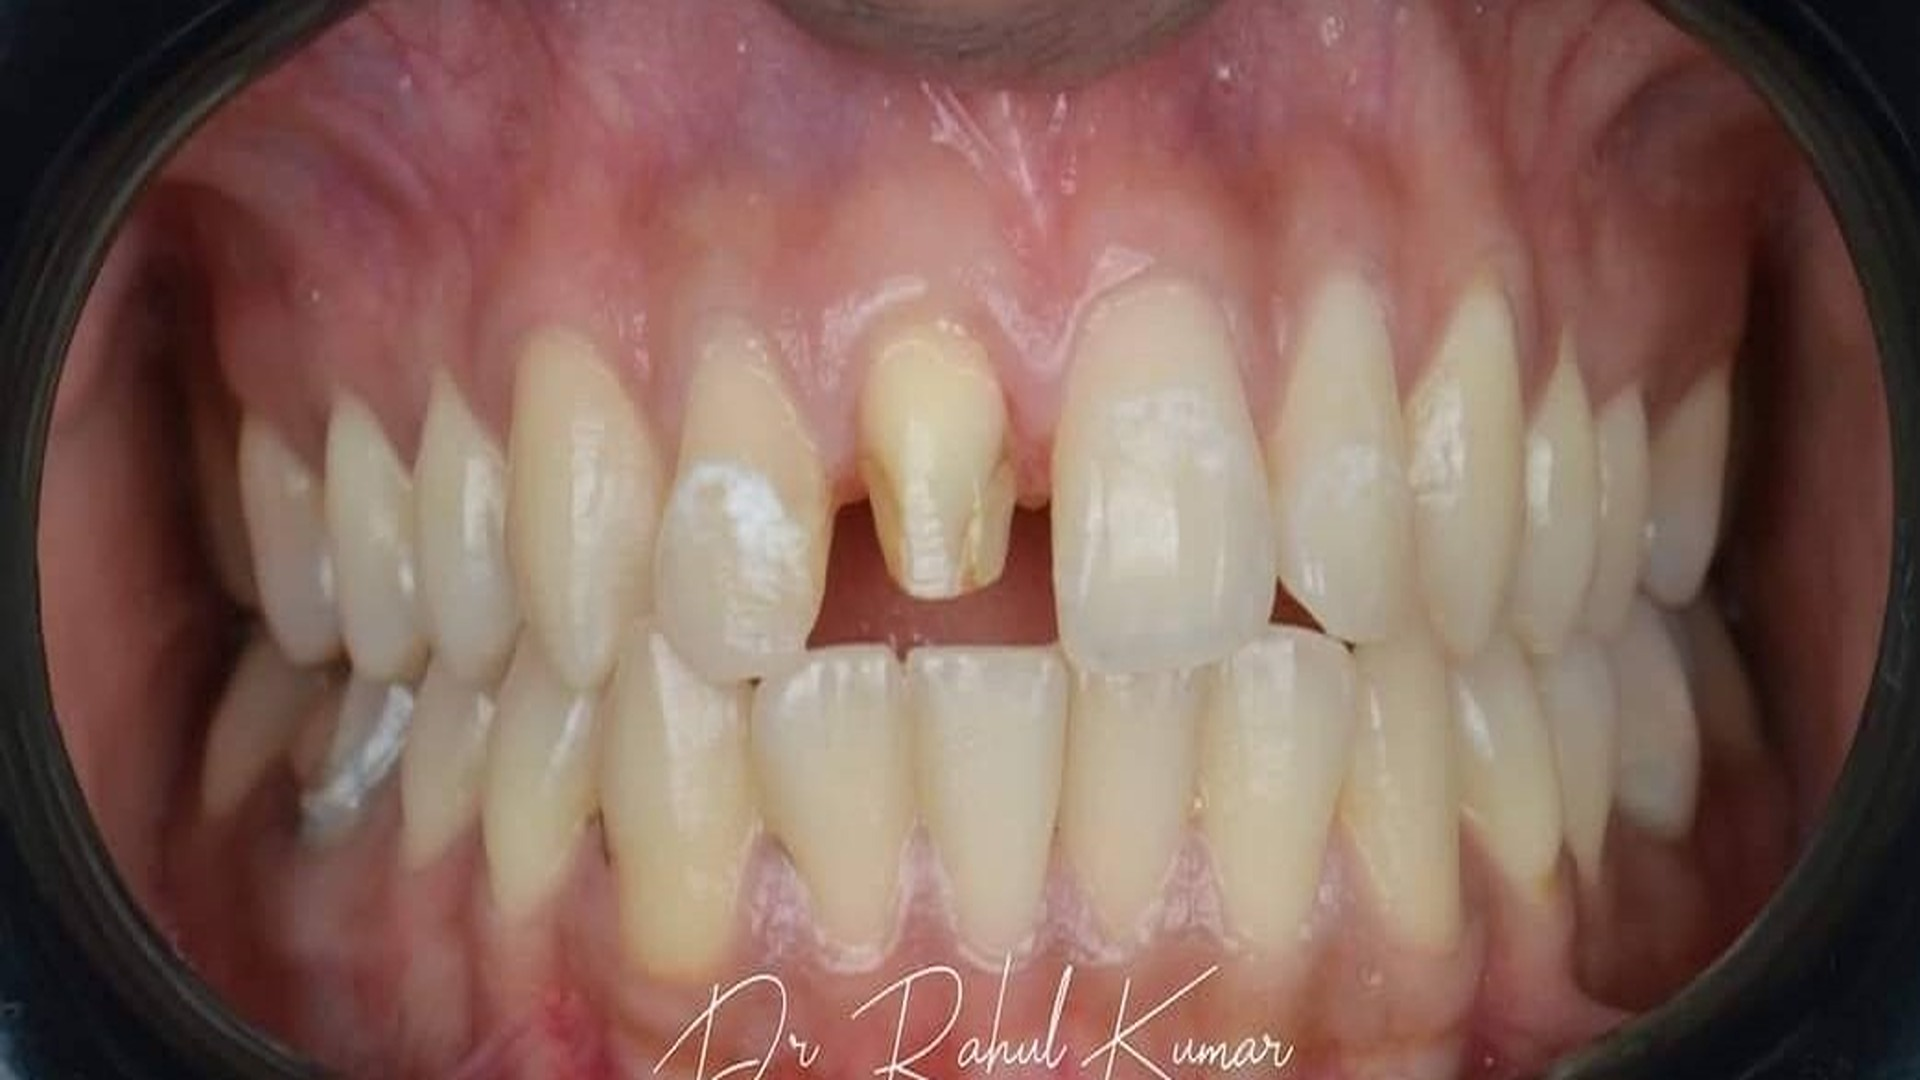tooth: (1050, 272, 1276, 674), (655, 355, 832, 683), (504, 324, 659, 691), (599, 626, 760, 976), (752, 640, 918, 975), (1269, 273, 1414, 644), (1197, 630, 1356, 945), (907, 645, 1069, 951), (1404, 280, 1524, 661), (856, 320, 1017, 600), (1056, 671, 1201, 955), (1341, 634, 1464, 949), (411, 369, 520, 690), (483, 625, 597, 913), (324, 389, 431, 684), (1513, 324, 1598, 655), (1455, 629, 1563, 880), (237, 407, 342, 665), (1642, 359, 1731, 609), (1611, 591, 1701, 837), (1538, 632, 1619, 878), (400, 661, 495, 873), (1586, 382, 1651, 644)
